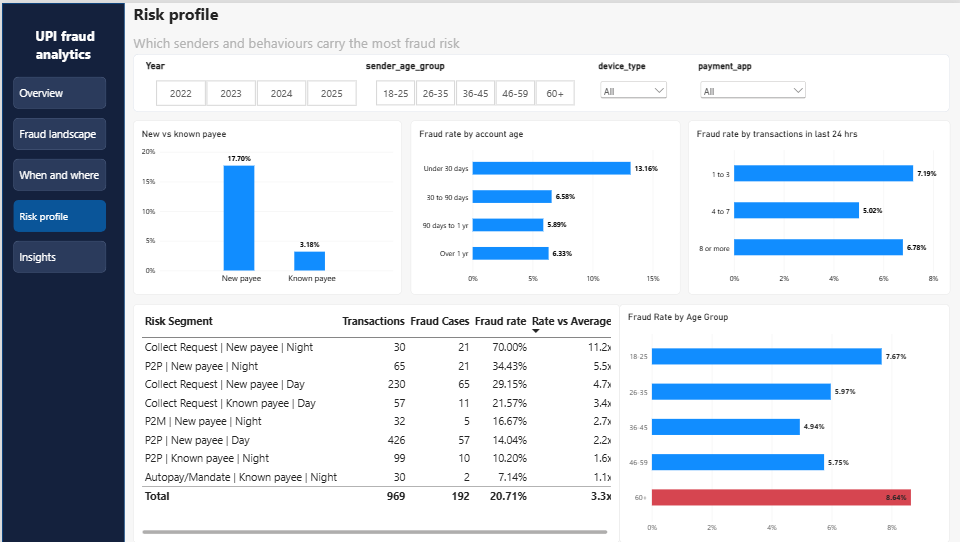

The page's visual inventory and layout, read from the dashboard file:
{"tool":"powerbi","page":{"name":"Risk profile","canvas":[1920,1080],"ordinal":3},"visuals":[{"type":"textbox","box":[263,0,1147.8,102.2],"z":0},{"type":"shape","box":[0,0,244.9,1080.6],"z":1000},{"type":"textbox","box":[0,47.3,244.9,72],"z":2000},{"type":"pageNavigator","box":[23.5,147.5,186,393.4],"z":3000},{"type":"shape","box":[263,102.2,1632.6,115.2],"z":4000},{"type":"slicer","title":"Year","fields":{"Values":["upi_transactions_2022_2025_clean_5k.txn_datetime.Variation.Date Hierarchy.Year"]},"box":[287,115.2,440.5,92.6],"z":5000},{"type":"slicer","title":"payment_app","fields":{"Values":["upi_transactions_2022_2025_clean_5k.payment_app"]},"box":[1391.3,115.2,220.2,119.4],"z":6000},{"type":"slicer","title":"sender_age_group","fields":{"Values":["upi_transactions_2022_2025_clean_5k.sender_age_group"]},"box":[728.3,115.2,437,91.3],"z":7000},{"type":"slicer","title":"device_type","fields":{"Values":["upi_transactions_2022_2025_clean_5k.device_type"]},"box":[1193.5,115.2,142.7,93],"z":8000},{"type":"clusteredColumnChart","title":"New vs known payee","fields":{"Category":["upi_transactions_2022_2025_clean_5k.Payee Status"],"Y":["Measures (2).Fraud Rate %"]},"box":[263,234.8,537,347.8],"z":9000},{"type":"clusteredBarChart","title":"Fraud rate by account age","fields":{"Category":["upi_transactions_2022_2025_clean_5k.Account Age Bucket"],"Y":["Measures (2).Fraud Rate %"]},"box":[817.4,234.8,539.1,347.8],"z":10000},{"type":"clusteredBarChart","title":"Fraud rate by transactions in last 24 hrs","fields":{"Category":["upi_transactions_2022_2025_clean_5k.Velocity Bucket"],"Y":["Measures (2).Fraud Rate %"]},"box":[1371.7,234.8,523.9,347.8],"z":11000},{"type":"tableEx","fields":{"Values":["upi_transactions_2022_2025_clean_5k.Risk Segment","Measures (2).Total Transactions","Measures (2).Fraud Cases","Measures (2).Segment Rate (min 30 txns)","Measures (2).Rate vs Average"]},"box":[262.5,602.5,972.5,477.5],"z":12000},{"type":"clusteredBarChart","title":"Fraud Rate by Age  Group","fields":{"Category":["upi_transactions_2022_2025_clean_5k.sender_age_group"],"Y":["Measures (2).Fraud Rate %"]},"box":[1235,602.5,660,477.5],"z":13000}]}

Visuals, with their boxes on the page's 1920x1080 design canvas (x1, y1, x2, y2). These are canvas units, not pixel positions in the 960x542 screenshot, which may show the page scaled, cropped or inside an application window:
textbox: region(263, 0, 1411, 102)
shape: region(0, 0, 245, 1081)
textbox: region(0, 47, 245, 119)
pageNavigator: region(24, 148, 210, 541)
shape: region(263, 102, 1896, 217)
"Year" slicer: region(287, 115, 728, 208)
"payment_app" slicer: region(1391, 115, 1612, 235)
"sender_age_group" slicer: region(728, 115, 1165, 206)
"device_type" slicer: region(1194, 115, 1336, 208)
"New vs known payee" clusteredColumnChart: region(263, 235, 800, 583)
"Fraud rate by account age" clusteredBarChart: region(817, 235, 1356, 583)
"Fraud rate by transactions in last 24 hrs" clusteredBarChart: region(1372, 235, 1896, 583)
tableEx - upi_transactions_2022_2025_clean_5k.Risk Segment x Measures (2).Total Transactions: region(262, 602, 1235, 1080)
"Fraud Rate by Age  Group" clusteredBarChart: region(1235, 602, 1895, 1080)
